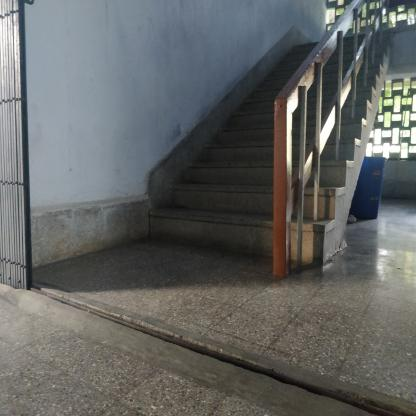stairs: (166, 155, 273, 268)
